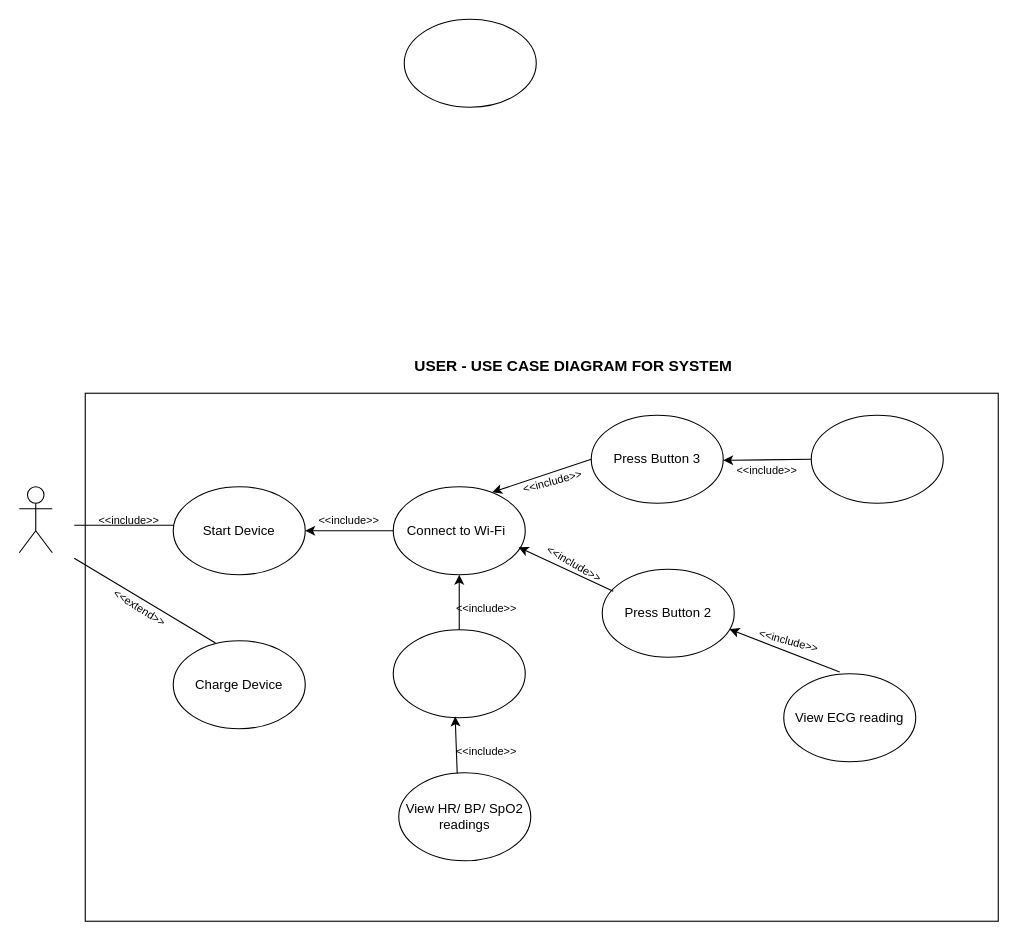
Some shapes in this 1018 by 941 pixel diagram are drawn without their labels. The box of each missing label's shape, as (x1, y1, x2, y2) in pixels:
Press Button 1: (392, 629, 525, 718)
User: (18, 486, 52, 553)
View Temperature reading: (810, 414, 943, 503)
